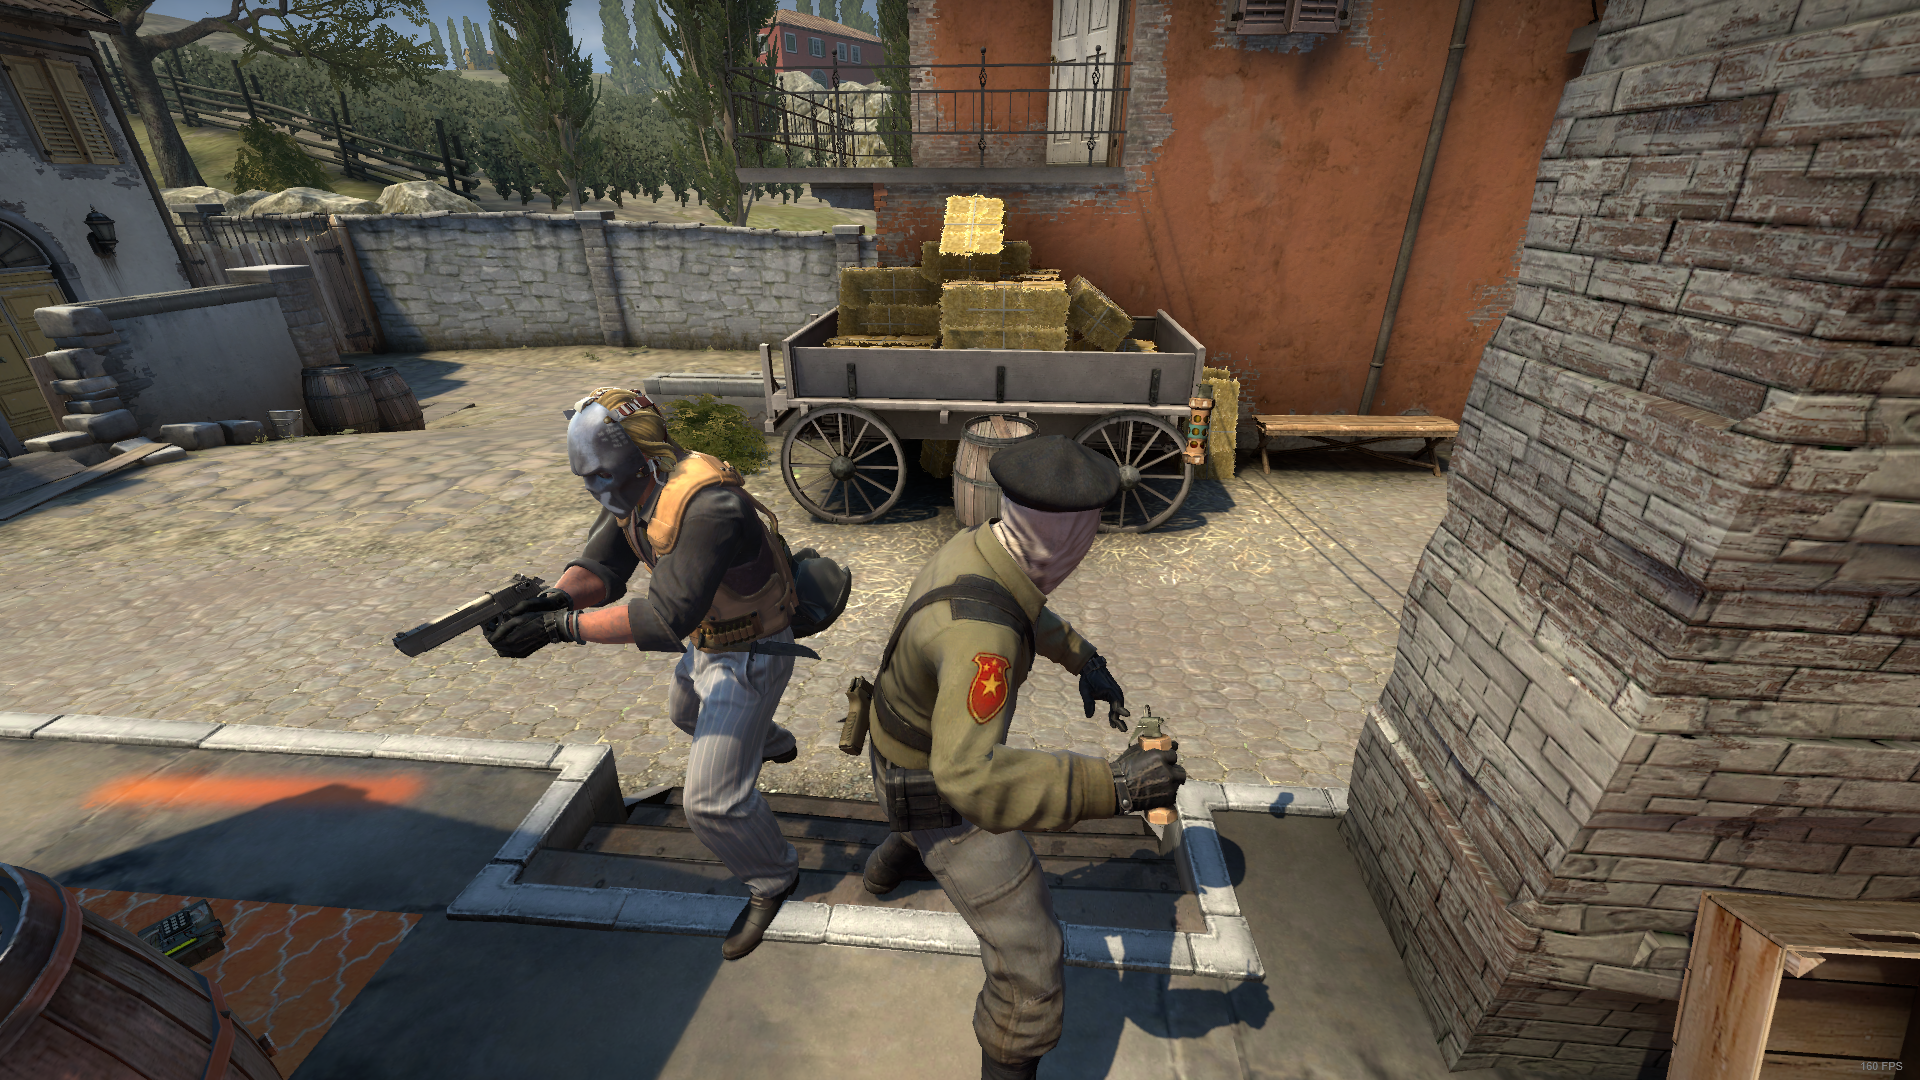t: (864, 433, 1187, 1080)
